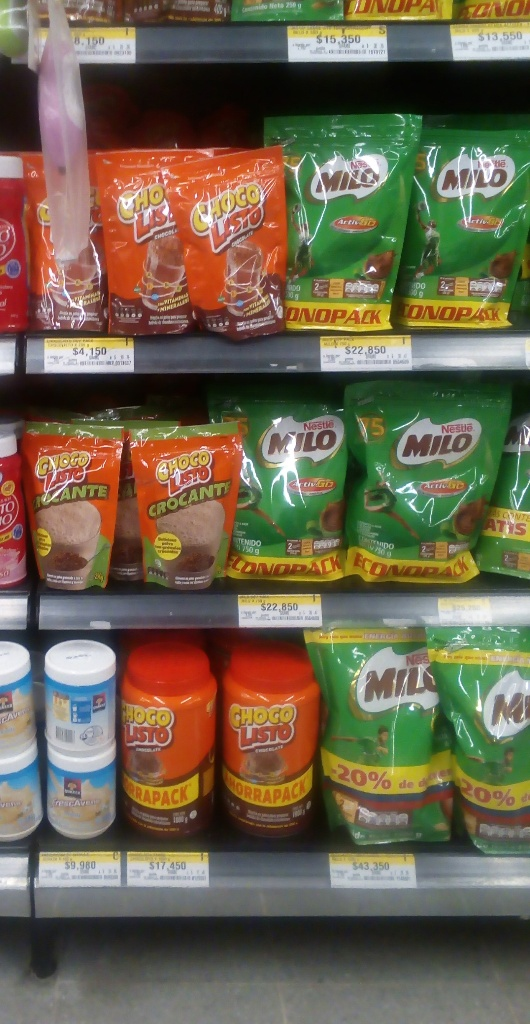COL0170103TRR00100: (117, 636, 218, 838)
